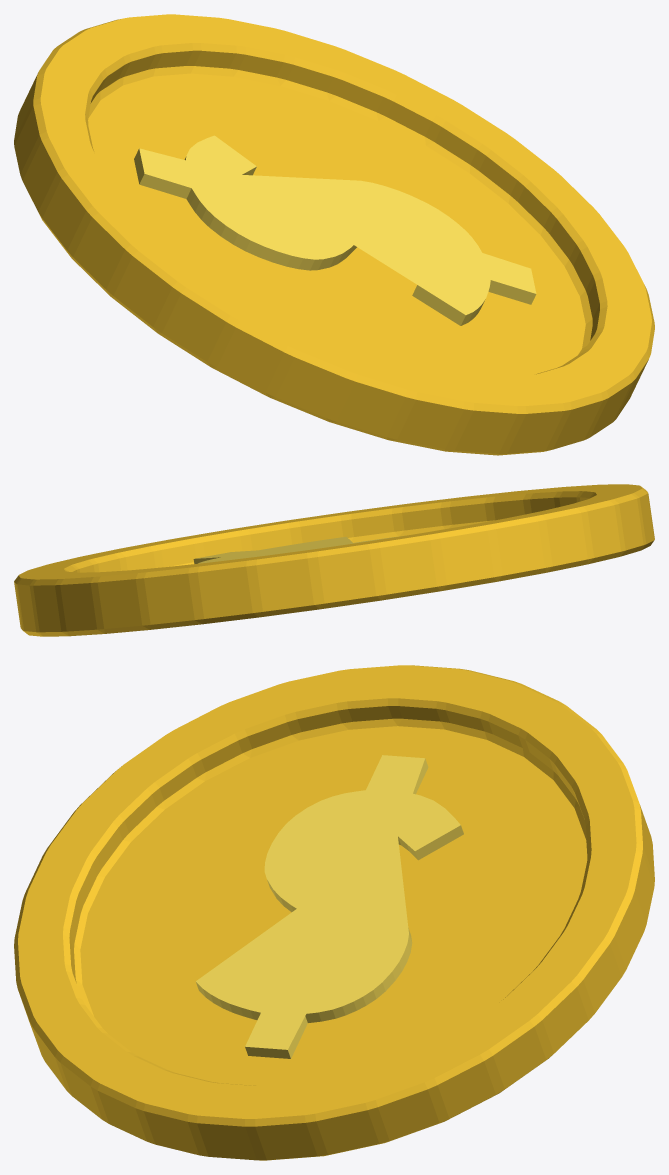
File: money.fbx
3 views of the same model, one above another, from view 1: azimuth 30°, elevation 25°; view 2: azimuth 150°, elevation 25°; view 3: azimuth 270°, elevation 25° (orthographic). The views are drawn at different scales.
Parts seen in each view (by area): view 1: Circle.001; view 2: Circle.001; view 3: Circle.001.
Part boxes in pixels (x1,y1,x2,y2): Circle.001: (14, 14, 654, 455); Circle.001: (14, 484, 654, 636); Circle.001: (14, 665, 654, 1160).
Bounding box in the file's own units: 51.31 × 24.76 × 51.96.
